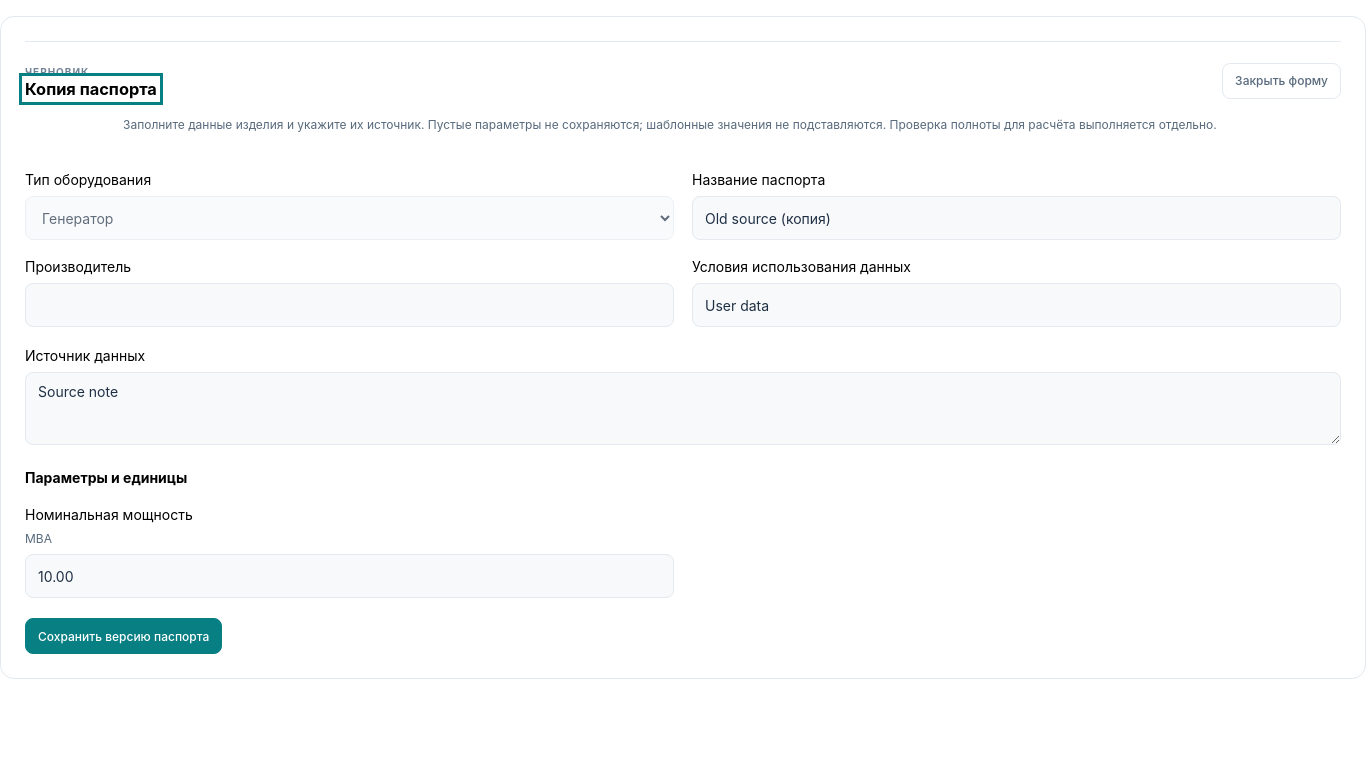
Test: clone creates an independent root and rejected fields remain editable
Click the button "Сохранить версию паспорта". click: (124, 636)
box: 25,618 -> 222,654
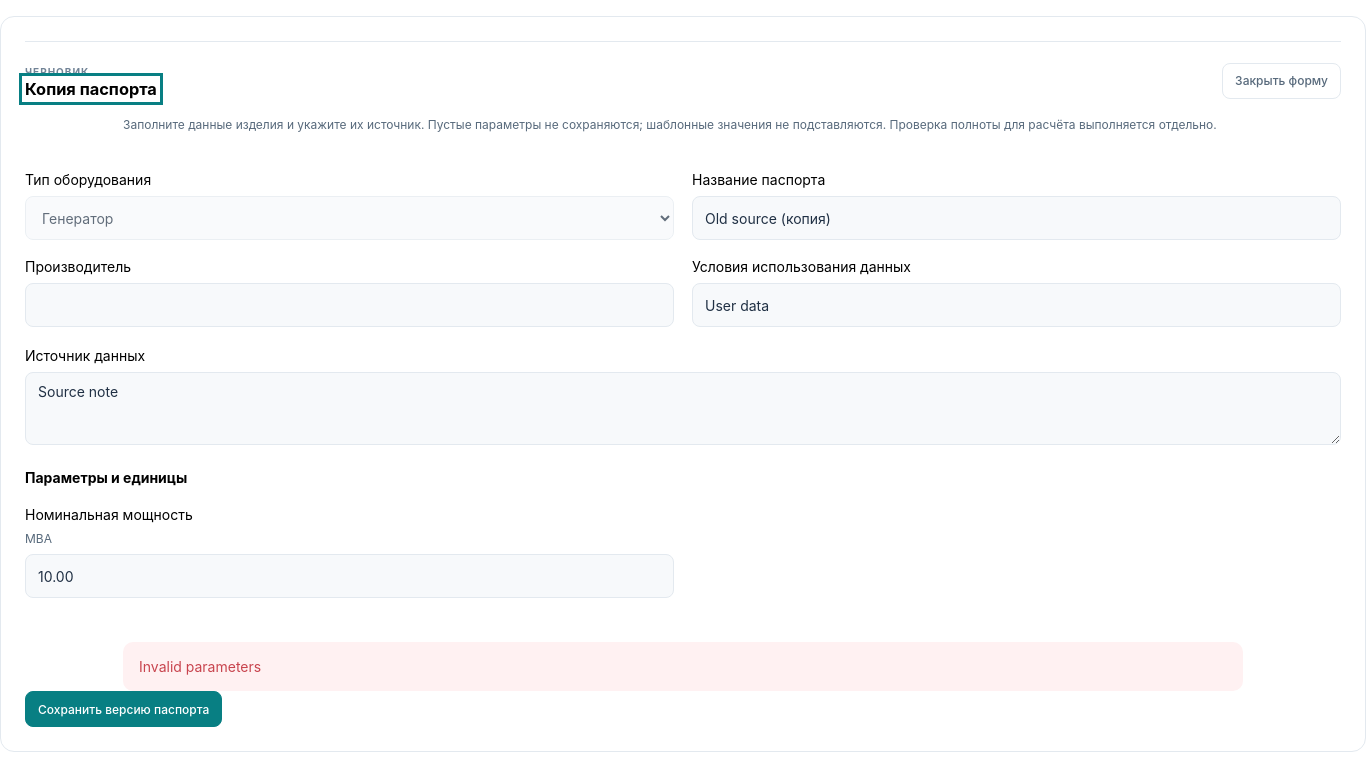
Expected: the element that starts with "Тип оборудования" is enabled, 25,151 -> 1341,618
Expected: the text "Invalid parameters" is shown, 123,642 -> 1243,691
